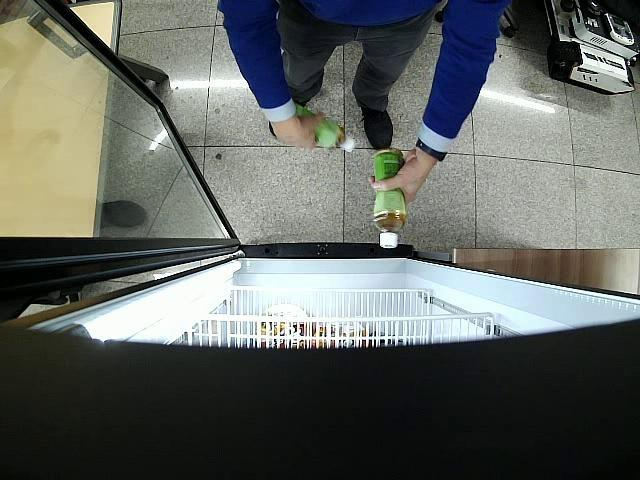19_17cha: (373, 148, 408, 248), (295, 104, 355, 152)
